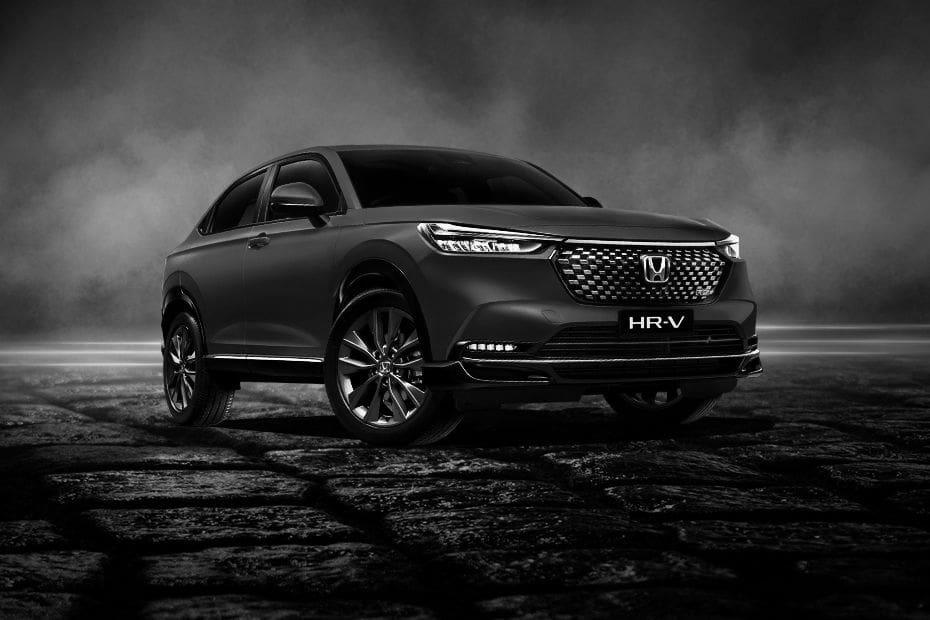Car hood: (405, 200, 742, 244)
Driver-s door - -F-R-: (243, 143, 345, 365), (329, 201, 430, 353)
Fender - -R-R-: (165, 236, 208, 292)
Front bumper: (419, 268, 780, 403)
Headlight - -L-: (706, 227, 753, 265)
Headlight - -R-: (412, 215, 568, 267)
Passenger-s door - -R-L-: (180, 156, 258, 364)
Rear bumper: (157, 288, 183, 359)
Side bumper - -R-: (190, 342, 338, 387)
Side mirror - -L-: (575, 187, 612, 215)
Side mirror - -R-: (267, 180, 330, 229)
